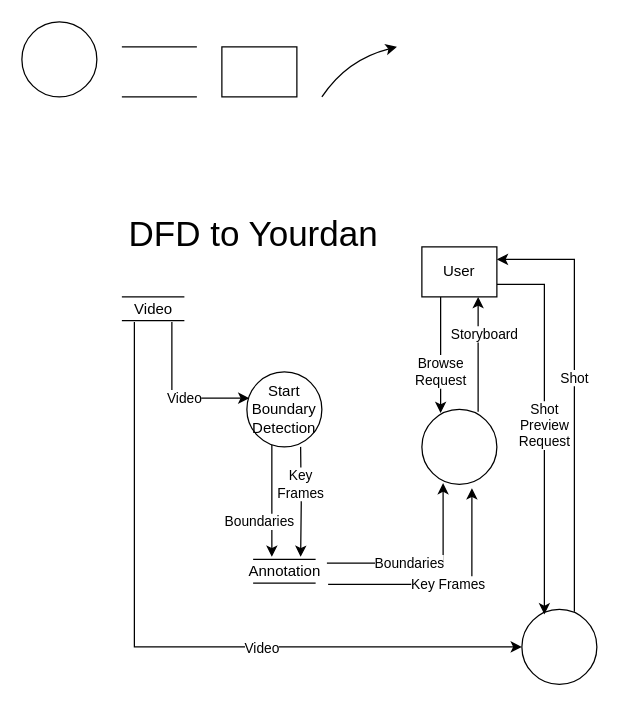
Image size: 619x706. Some labels were removed from this diagram. Here are the shapes that lost their labels. From the top down, the centre of each, then its label:
the point at 459,446: Storyboard Preview
the point at 559,646: Shot Preview
